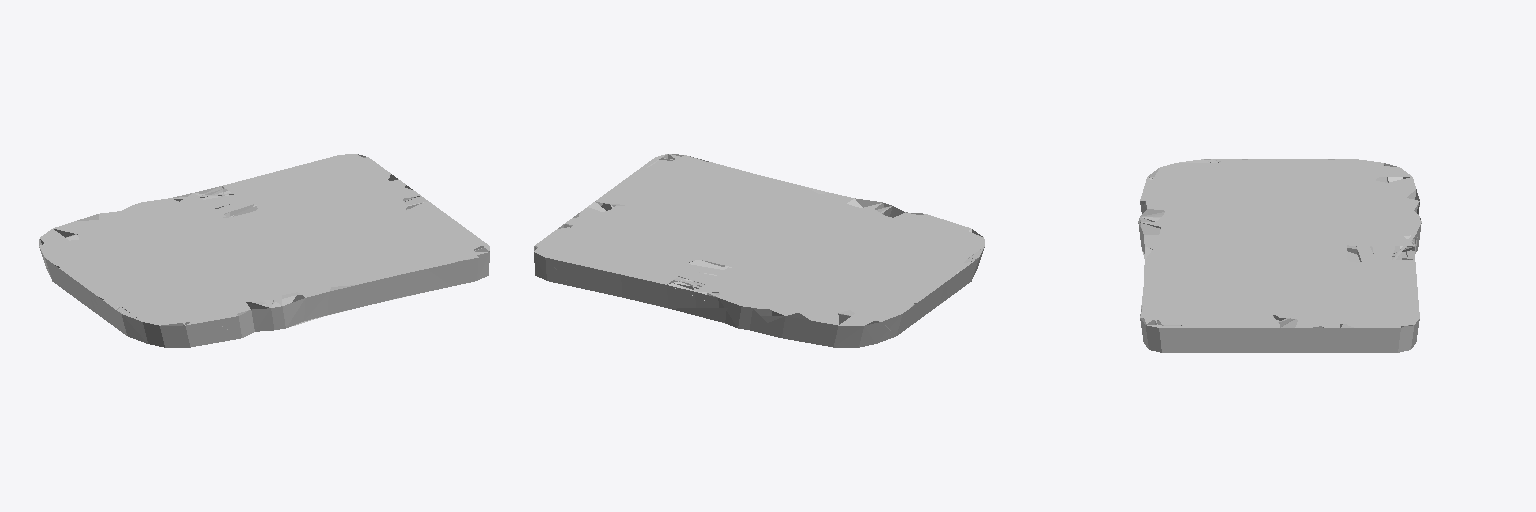
The model's file is abc.obj.
The picture shows the model from 3 angles: view 1: azimuth 30°, elevation 25°; view 2: azimuth 150°, elevation 25°; view 3: azimuth 270°, elevation 25°; orthographic projection.
Parts seen in each view (by area): view 1: Slice_0, Slice_1; view 2: Slice_0, Slice_1; view 3: Slice_0, Slice_1.
Part boxes in pixels (x1,y1,x2,y2): Slice_0: (39,154,489,346); Slice_1: (39,154,489,347); Slice_0: (534,154,984,337); Slice_1: (534,154,984,347); Slice_0: (1138,159,1421,352); Slice_1: (1140,159,1421,352).
Bounding box in the file's own units: 1.37 × 0.0946 × 0.9759.